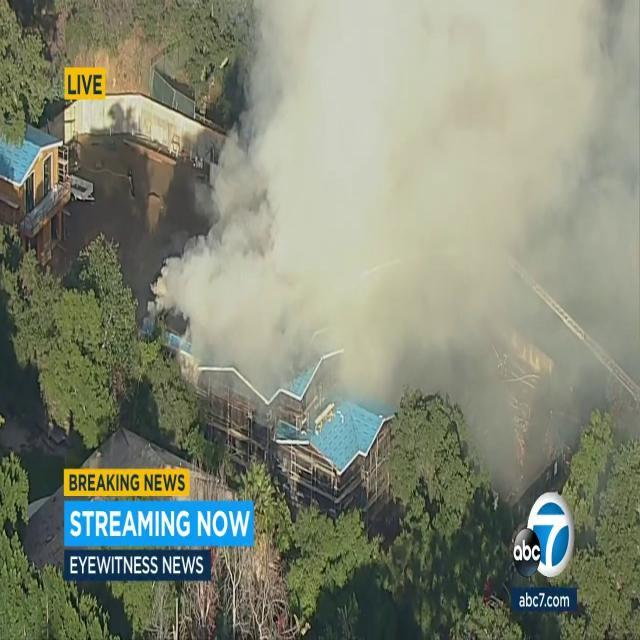Smoke: (173, 0, 640, 434)
